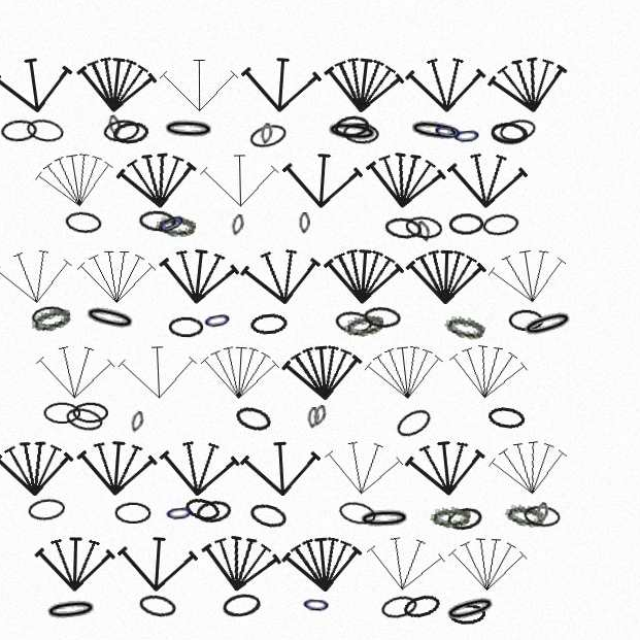chain: (519, 298, 574, 333), (444, 575, 499, 609), (94, 294, 149, 326), (410, 114, 464, 142), (396, 393, 437, 429), (57, 580, 111, 606), (330, 116, 383, 142), (43, 295, 86, 327), (347, 302, 389, 331), (255, 118, 295, 148), (255, 486, 295, 516), (172, 115, 224, 138), (362, 493, 414, 516), (241, 392, 280, 422), (229, 574, 269, 603), (404, 575, 444, 604), (445, 305, 487, 332), (192, 481, 231, 510), (77, 394, 116, 422), (342, 485, 381, 513), (148, 575, 187, 603), (383, 576, 422, 604), (164, 202, 199, 233), (504, 488, 545, 514), (39, 114, 78, 141), (498, 114, 537, 141), (482, 206, 520, 232), (447, 491, 485, 517), (204, 484, 241, 510), (114, 115, 152, 140), (387, 210, 425, 235), (407, 209, 445, 234), (339, 301, 377, 326), (487, 394, 525, 419), (41, 483, 79, 508), (123, 117, 160, 142), (338, 111, 375, 136), (432, 491, 472, 514), (77, 205, 115, 229), (522, 490, 560, 514), (490, 118, 527, 142), (367, 297, 404, 321), (231, 576, 268, 600), (166, 209, 205, 231), (15, 116, 52, 139), (149, 204, 186, 227), (257, 304, 294, 327), (347, 119, 383, 142), (45, 297, 81, 320), (210, 299, 242, 324), (491, 120, 527, 142), (450, 586, 486, 608), (434, 116, 465, 141), (450, 207, 485, 229), (57, 391, 93, 412), (126, 488, 162, 509), (178, 308, 213, 329), (508, 301, 543, 322), (85, 391, 120, 412), (453, 121, 483, 144), (174, 487, 204, 510), (307, 576, 337, 599), (418, 214, 435, 237), (140, 399, 156, 422), (317, 393, 333, 416), (238, 208, 253, 231), (119, 112, 134, 134), (534, 488, 548, 510), (267, 120, 280, 142), (313, 396, 325, 417), (305, 207, 316, 228)
fan: (485, 48, 571, 118), (45, 141, 131, 210), (205, 513, 291, 582), (485, 234, 570, 303), (5, 49, 90, 117), (366, 142, 450, 209), (446, 328, 530, 395), (486, 421, 570, 488), (366, 514, 450, 581), (246, 236, 330, 302), (326, 50, 409, 116), (6, 236, 89, 302), (366, 329, 449, 395), (86, 50, 169, 115), (126, 143, 209, 208), (166, 236, 249, 301), (326, 422, 409, 487), (406, 422, 489, 487), (287, 330, 369, 394), (167, 423, 249, 487), (287, 516, 369, 580), (87, 423, 169, 486), (247, 51, 328, 114), (287, 144, 368, 207), (447, 144, 528, 207), (327, 237, 408, 300), (127, 516, 208, 579), (207, 331, 288, 393), (247, 424, 328, 486), (48, 331, 128, 392), (128, 331, 208, 392), (448, 518, 528, 578), (408, 239, 487, 299), (8, 425, 87, 485), (408, 53, 487, 112), (208, 146, 287, 205), (48, 518, 127, 577), (169, 54, 247, 112), (89, 240, 167, 298)
